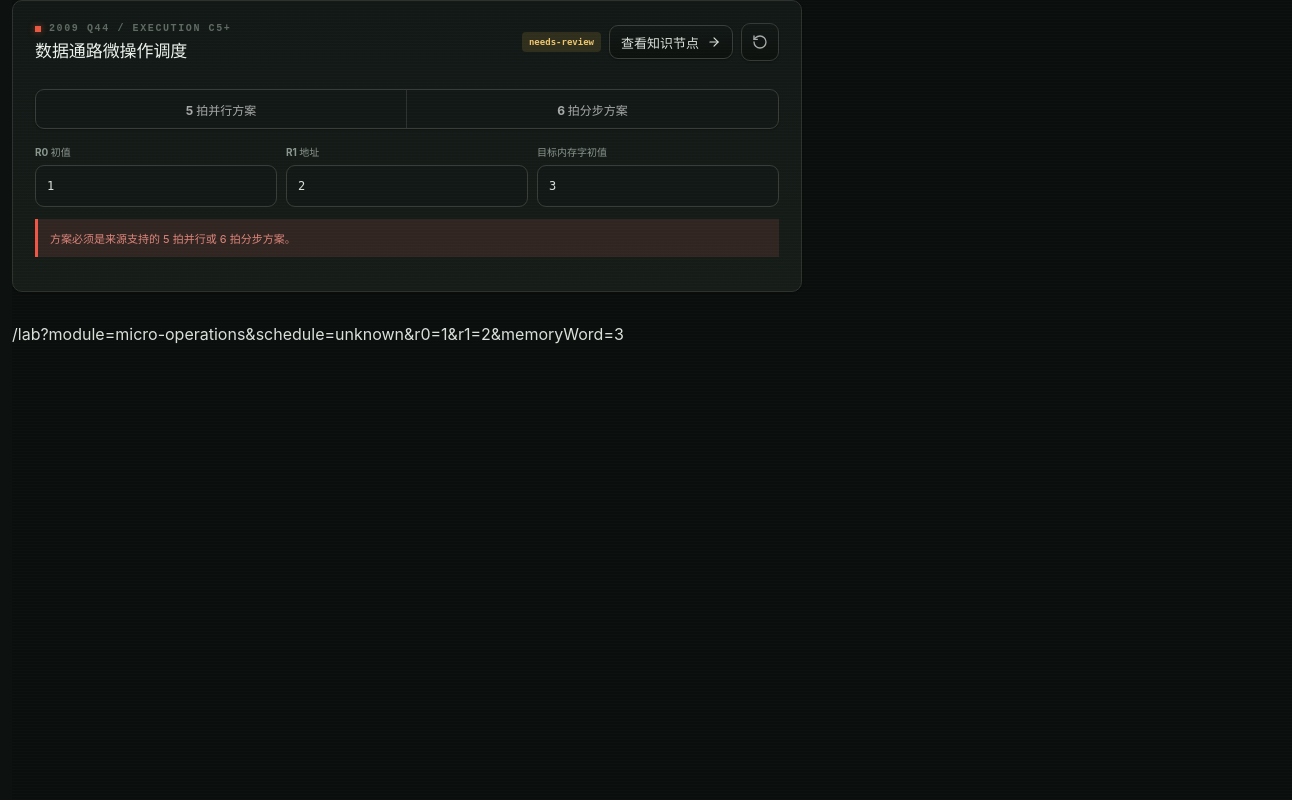
MicroOperationsLabPanel › fails closed for an invalid schedule or word and restores the canonical Q44 preset
Expected: the message shows "方案", top-left (35, 219), bottom-right (779, 257)
Click the button named "恢复 Q44 预设" at (760, 42), box top-left (741, 23), bottom-right (779, 61)
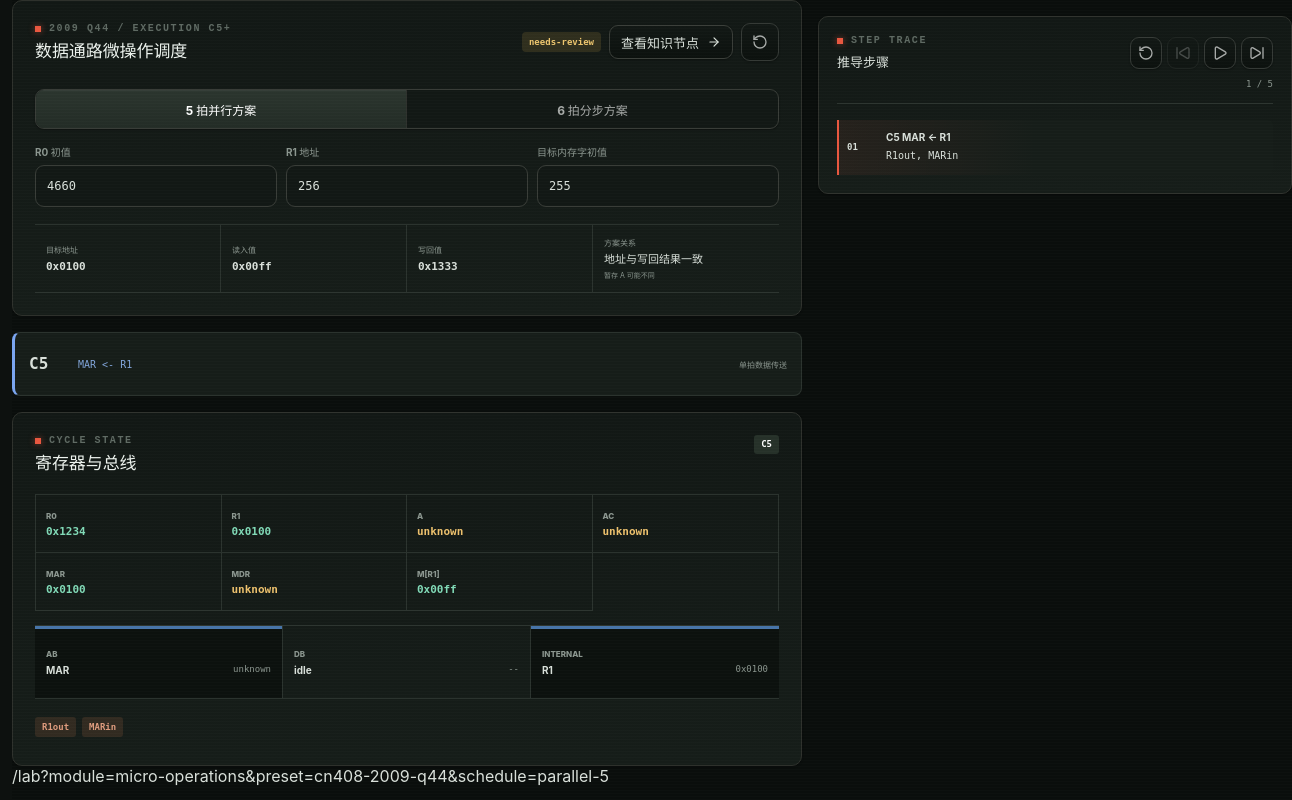
Result: the message "方案必须是来源支持的 5 拍并行或 6 拍分步方案。" is gone
Result: the text named "current URL" reads "/lab?module=micro-operations&preset=cn408-2009-q44&schedule=parallel-5" at top-left (12, 766), bottom-right (609, 786)
Replace the text in the number field labelled "目标内存字初值" with "65536" at (658, 186), box top-left (537, 165), bottom-right (779, 207)
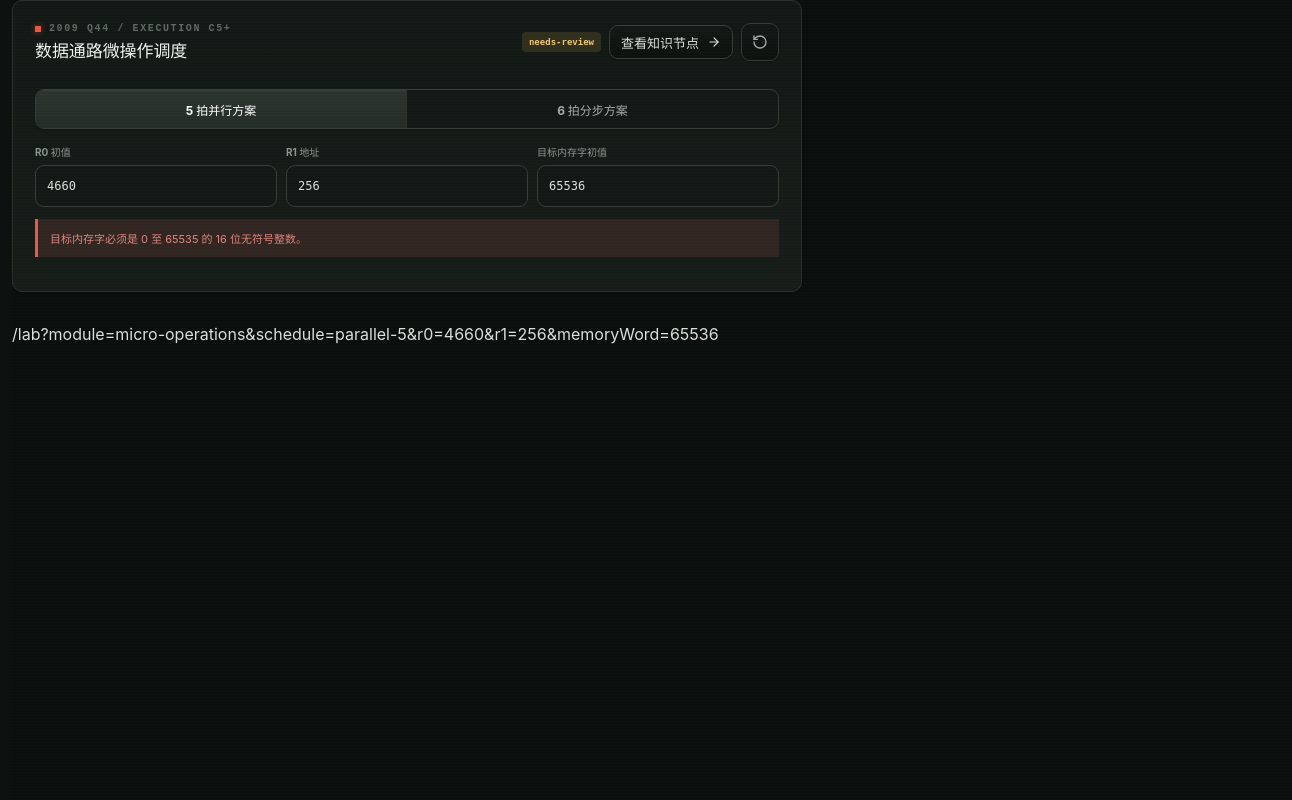
Result: the message shows "16 位" at top-left (50, 232), bottom-right (307, 246)
Result: the field labelled "当前寄存器状态" is gone
